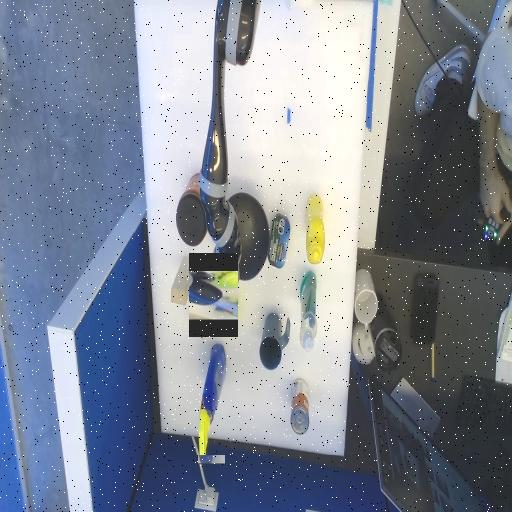bowl: (218, 194, 268, 280)
cleanser: (300, 271, 316, 350)
coffee_can: (175, 190, 214, 228)
jaco: (189, 270, 238, 316)
meat_can: (267, 229, 289, 251)
mug: (259, 313, 289, 369)
mustard_bottle: (305, 219, 324, 238)
rubik: (190, 305, 212, 327)
soup_can: (291, 379, 308, 434)
tennis_ball: (221, 300, 238, 317)
windex: (198, 345, 225, 463)
wooden_block: (170, 268, 195, 293)
workspace: (135, 3, 372, 455)
